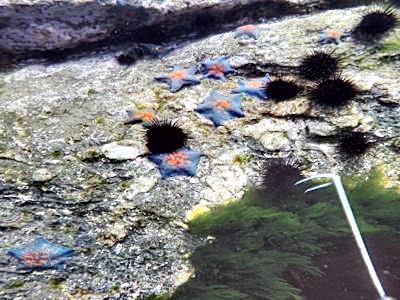urchin: (148, 120, 183, 152), (265, 164, 304, 192), (354, 6, 393, 34), (312, 79, 350, 106), (300, 49, 333, 75), (269, 79, 298, 100), (344, 135, 363, 154)
